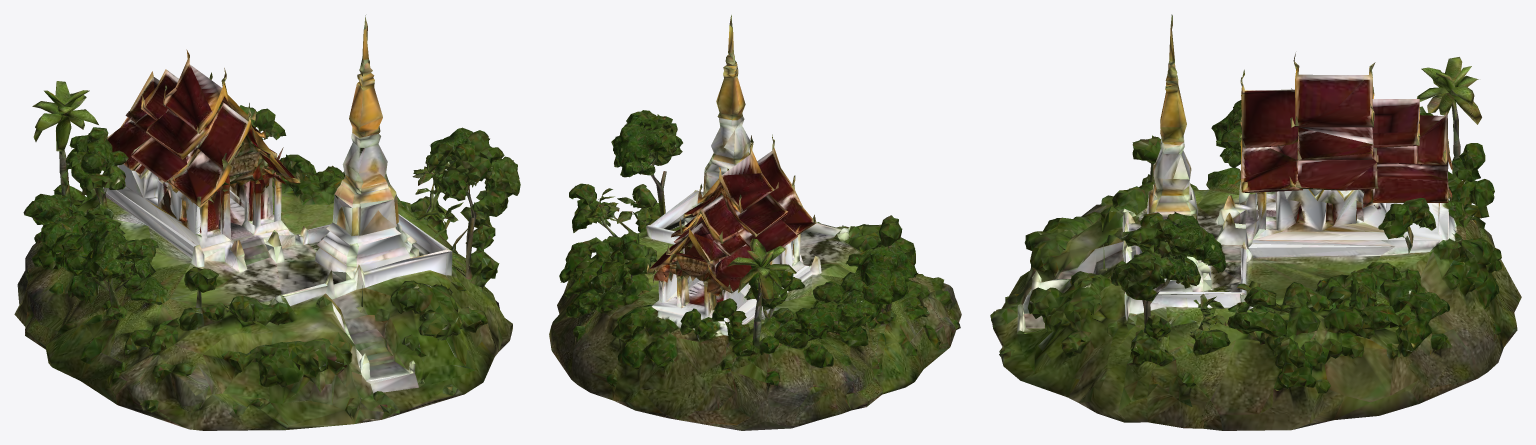
Rendered from temple.glb.
3 views of the same model, side by side, from view 1: azimuth 30°, elevation 25°; view 2: azimuth 150°, elevation 25°; view 3: azimuth 270°, elevation 25° (orthographic). The views are drawn at different scales.
Parts seen in each view (by area): view 1: Mesh_0; view 2: Mesh_0; view 3: Mesh_0.
Boxes of the visible parts, left/top/right/bottom form: Mesh_0: left=14, top=15, right=520, bottom=430; Mesh_0: left=549, top=15, right=961, bottom=430; Mesh_0: left=990, top=14, right=1521, bottom=430.
Bounding box in the file's own units: 0.9271 × 0.7164 × 1.
Materials: 1 (1 with a texture image).
